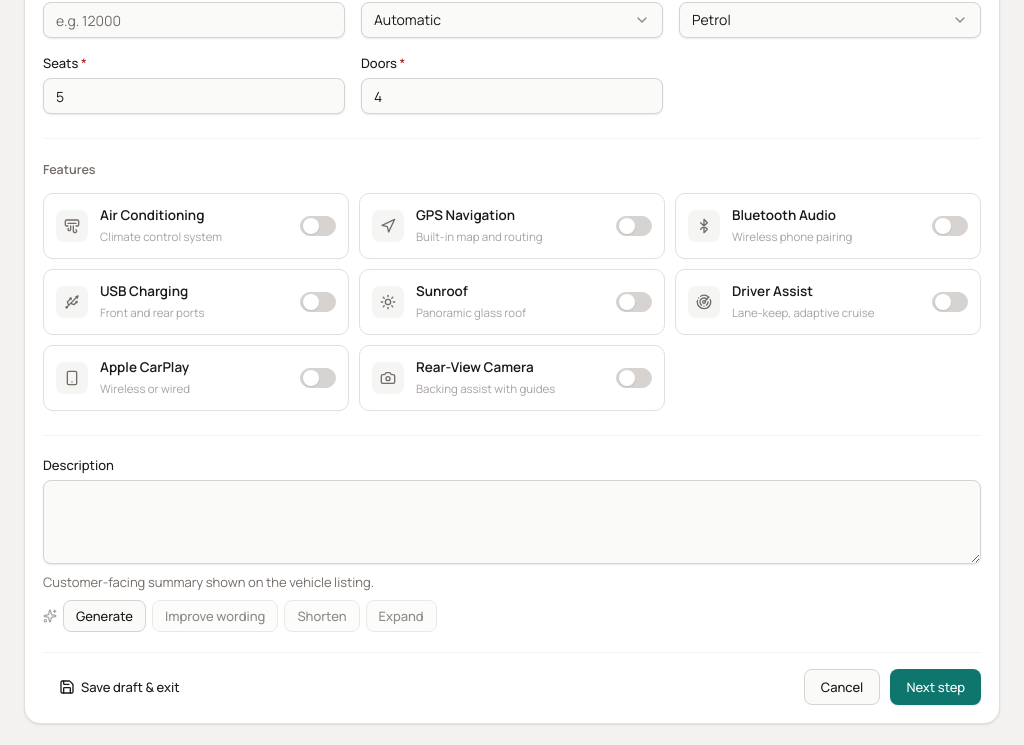
Scenario: VehicleFormPage description writer › sends the user to the make when Generate is pressed before the car is named
(page scrolled)
Click the button "Generate" at (104, 616), box [63,600,146,632]
(page scrolled)
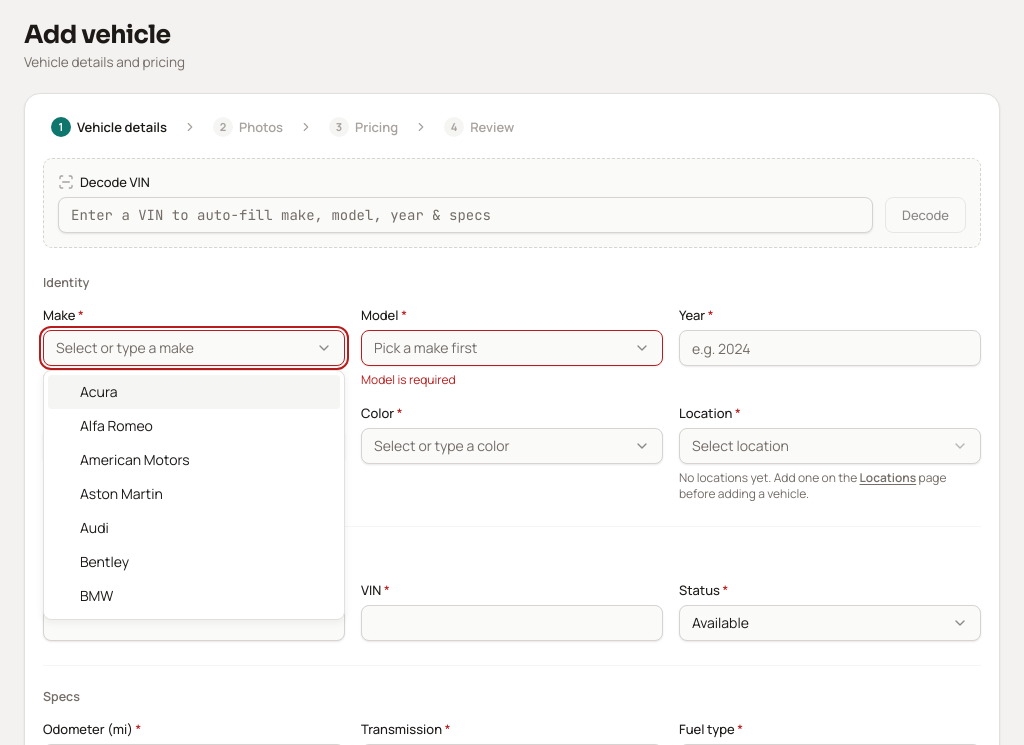
Now the text "Make is required" is shown, box [43,371,133,388]
